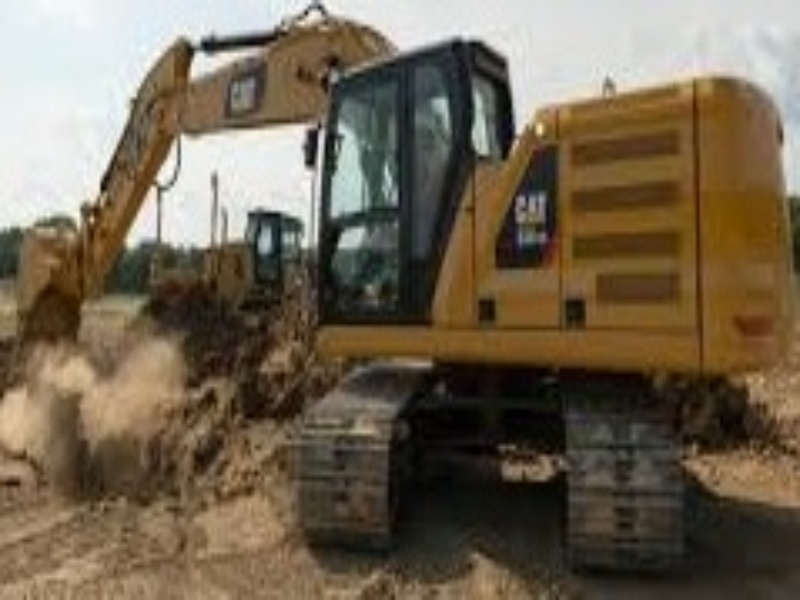wajueji: (268, 11, 788, 578)
